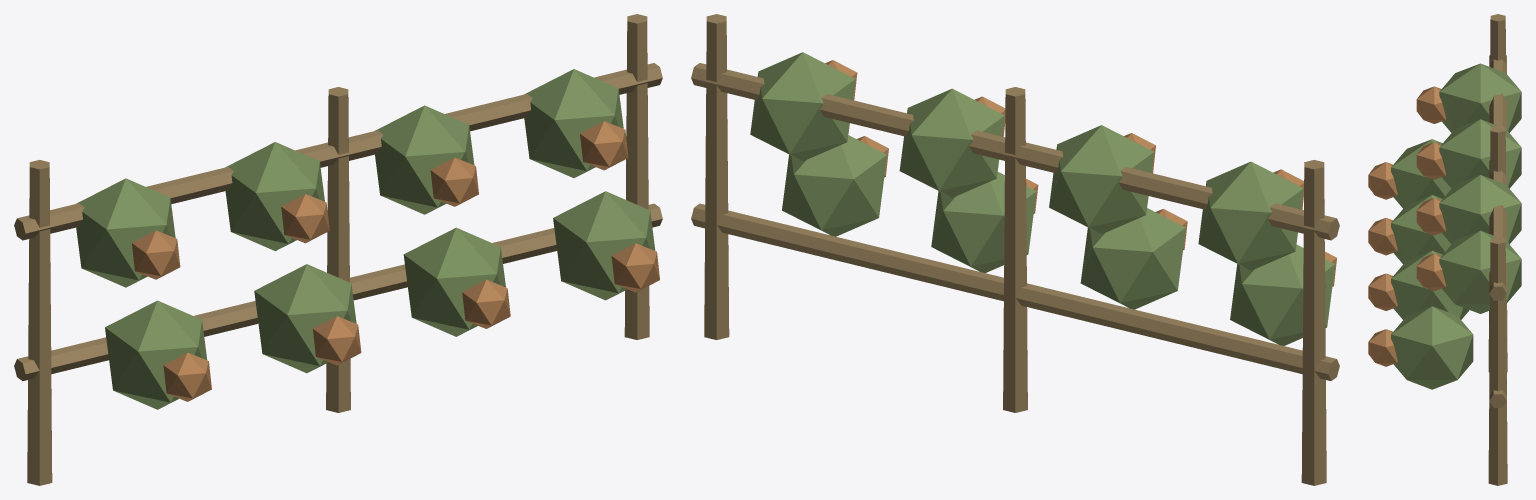
File: map-exclusive-v3__farm_15.glb
3 views of the same model, side by side, from view 1: azimuth 30°, elevation 25°; view 2: azimuth 150°, elevation 25°; view 3: azimuth 270°, elevation 25° (orthographic). The views are drawn at different scales.
Visible parts, largest first — view 1: farm_15; view 2: farm_15; view 3: farm_15.
Part boxes in pixels (x1,y1,x2,y2): farm_15: [14, 14, 662, 485]; farm_15: [691, 14, 1339, 485]; farm_15: [1368, 14, 1521, 485].
Bounding box in the file's own units: 2.56 × 1.21 × 0.698.
